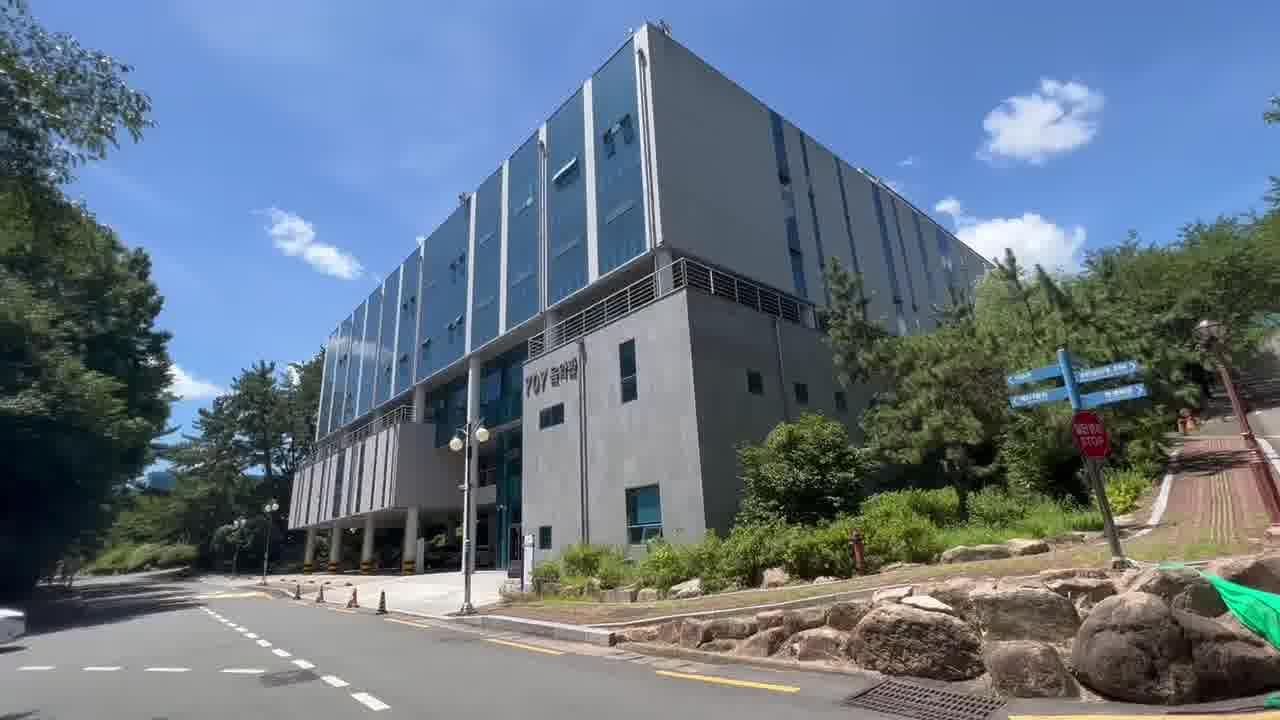building: (279, 13, 798, 557)
